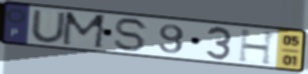3: (204, 25, 235, 62)
9: (157, 23, 186, 54)
H: (236, 28, 279, 67)
M: (60, 10, 110, 50)
S: (113, 17, 152, 54)
U: (29, 9, 69, 45)
